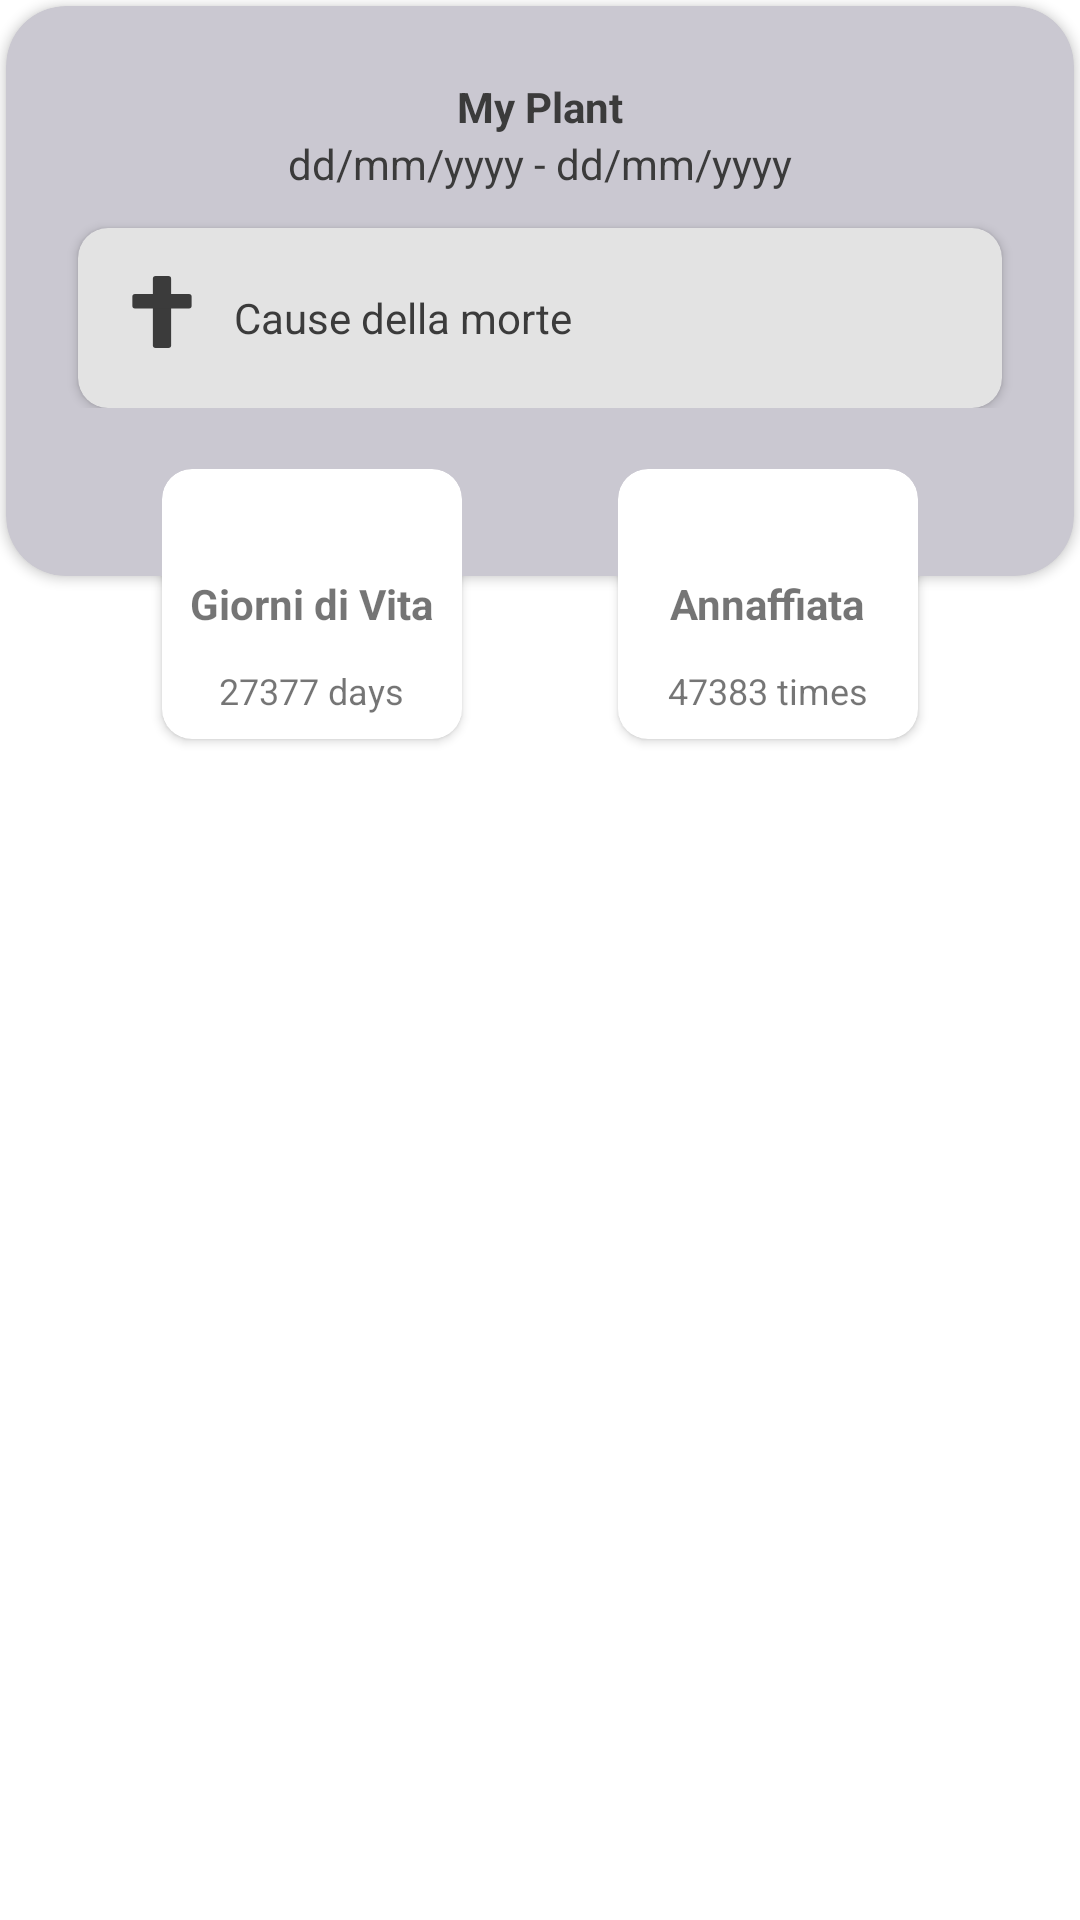

Where icons sit on this 1080x1920 app screen, as (x1, y1, x2, y2):
cross: (132, 276, 192, 348)
